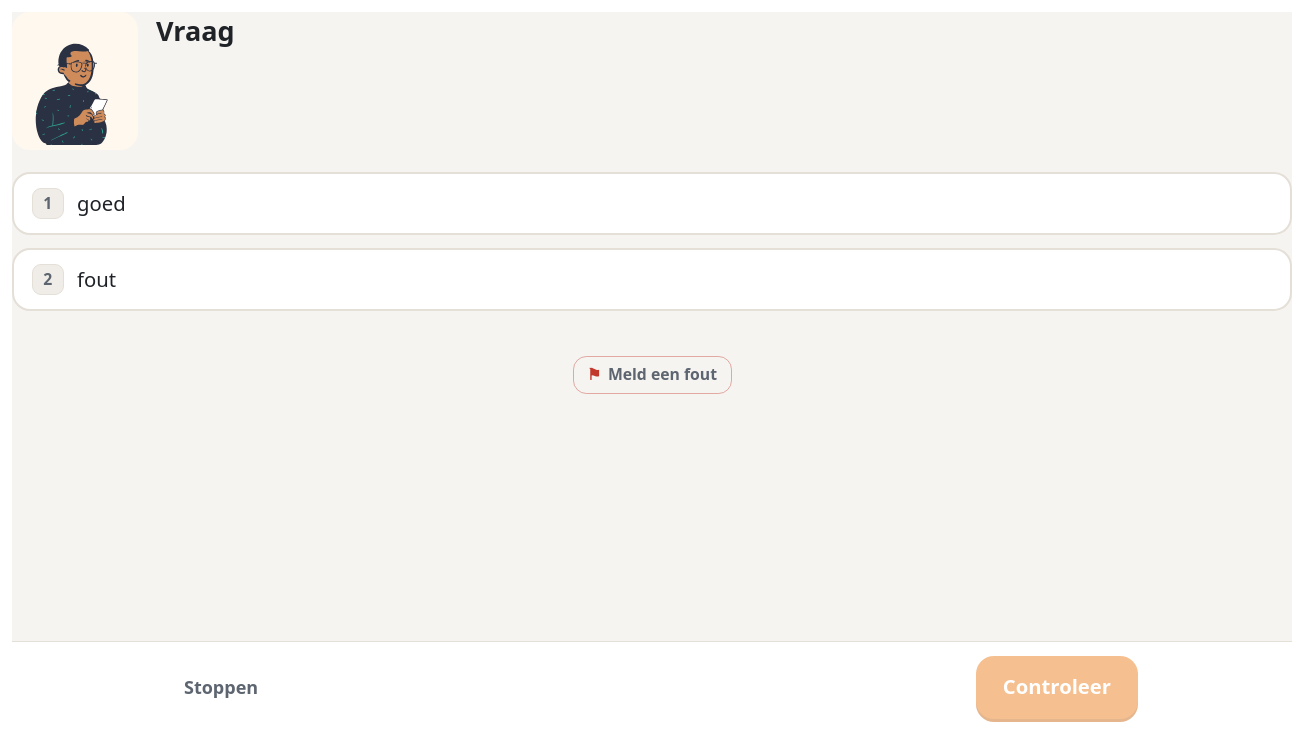
Scenario: checking an answer › a wrong answer shows the right one
Click the button "2 fout" at point(48, 279), box [12,248,1292,311]
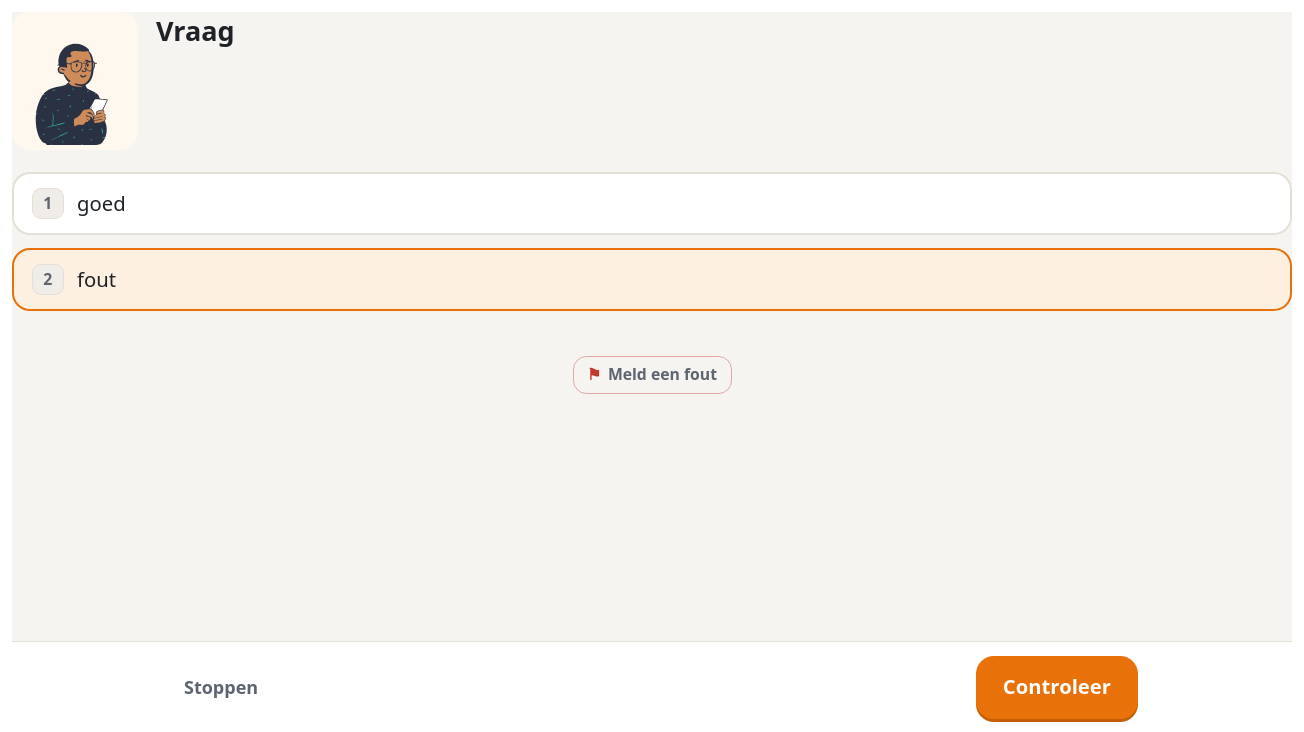
Click the button "Controleer" at point(1057, 687), box [976,656,1138,718]
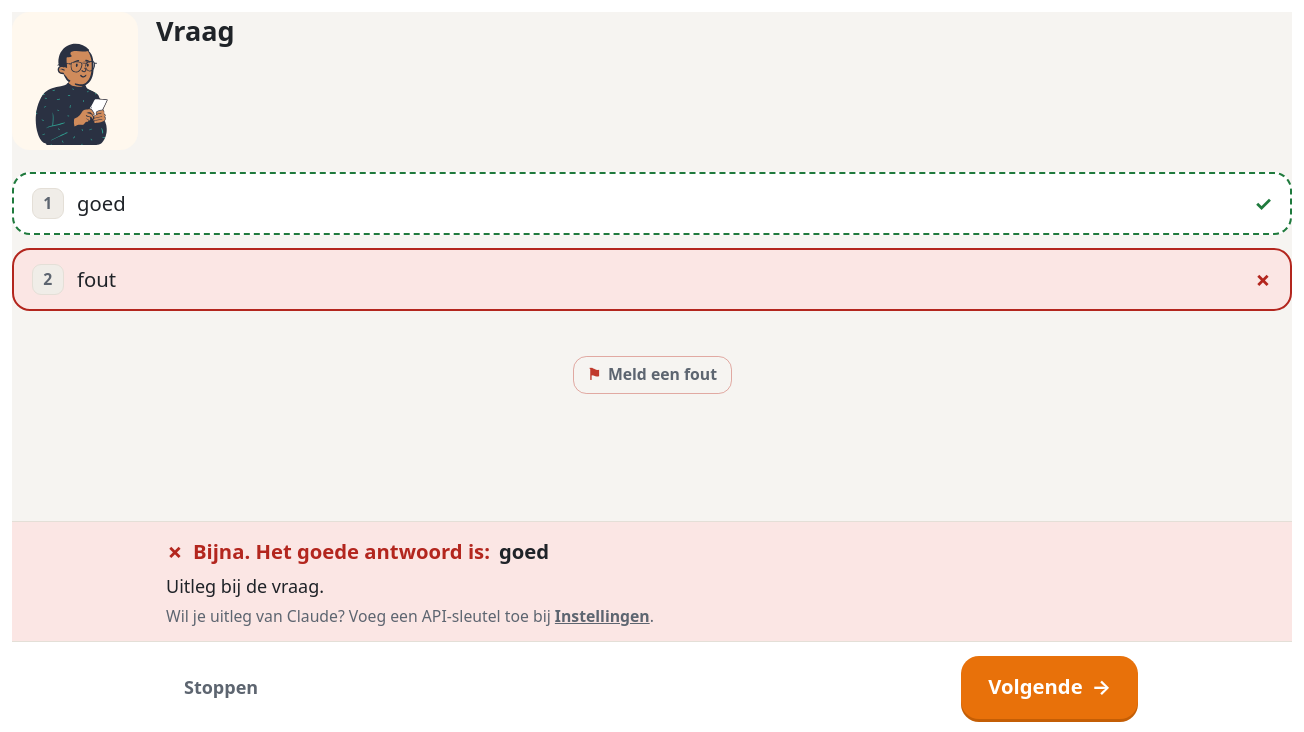
Now the message shows "Bijna. Het goede antwoord is:", box [193,537,490,565]
Now the message shows "goed", box [499,537,549,565]
